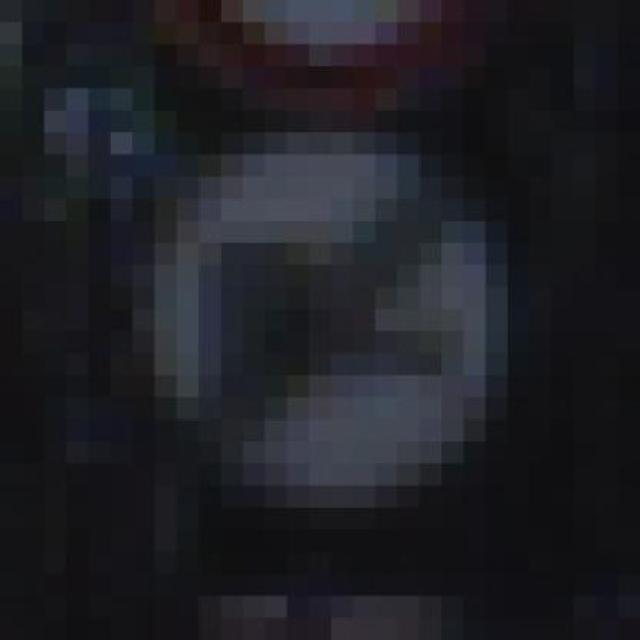Overtaking by trucks is prohibited: (66, 88, 574, 530)
